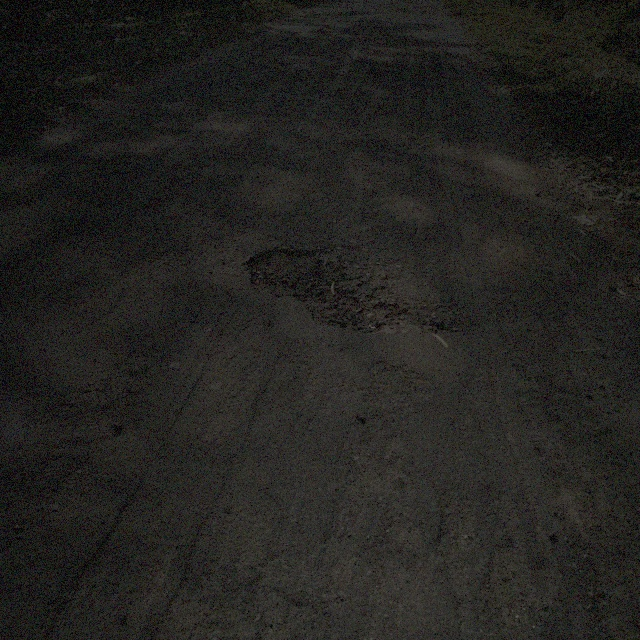pothole: (238, 244, 406, 334), (364, 64, 400, 79)
